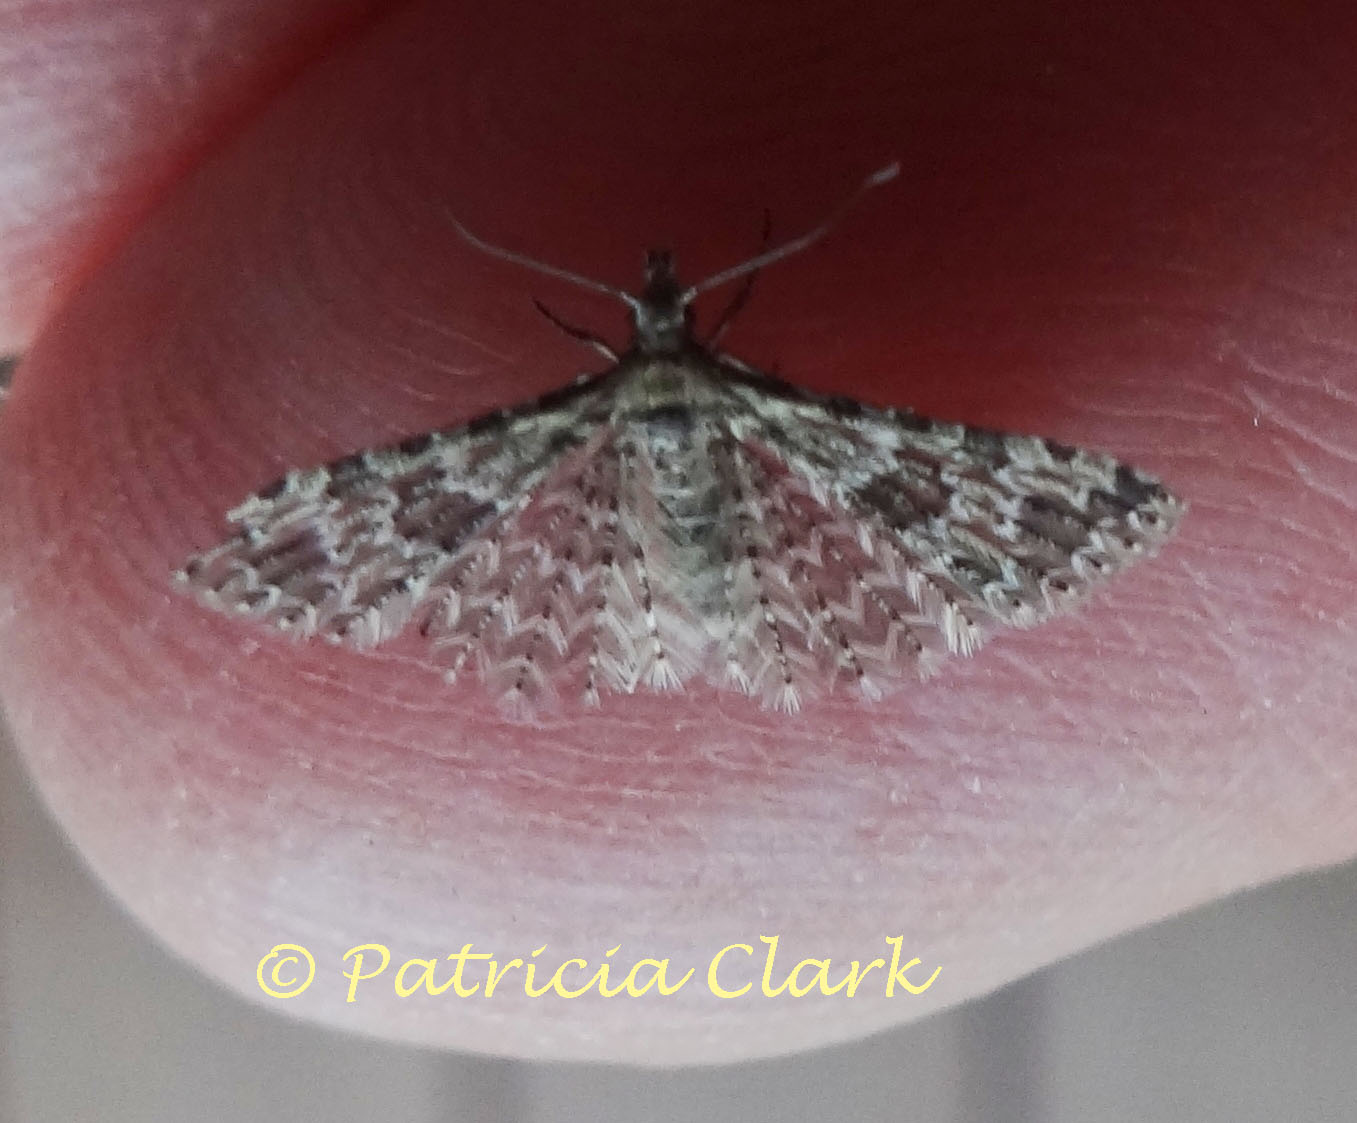Alucitidae: (145, 138, 1199, 725)
moth: (147, 140, 1201, 727)
